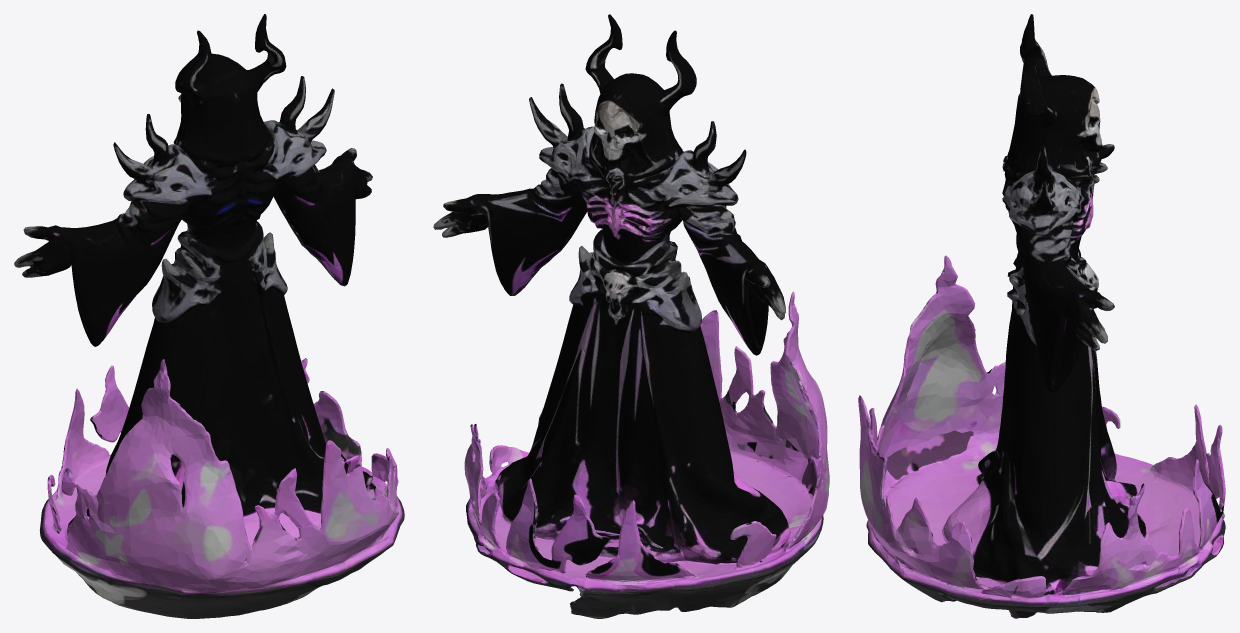
Rendered from final_boss.textured.glb.
3 renders of one model, left to right at view 1: azimuth 30°, elevation 25°; view 2: azimuth 150°, elevation 25°; view 3: azimuth 270°, elevation 25°, orthographic. The views are drawn at different scales.
Parts seen in each view (by area): view 1: out.obj; view 2: out.obj; view 3: out.obj.
Part boxes in pixels (left/top/right/bottom): out.obj: left=14, top=14, right=404, bottom=618; out.obj: left=433, top=14, right=829, bottom=618; out.obj: left=858, top=14, right=1225, bottom=618.
Size of the model in its own units: 1.37 by 1.99 by 1.21.
1 material, 1 textured.
